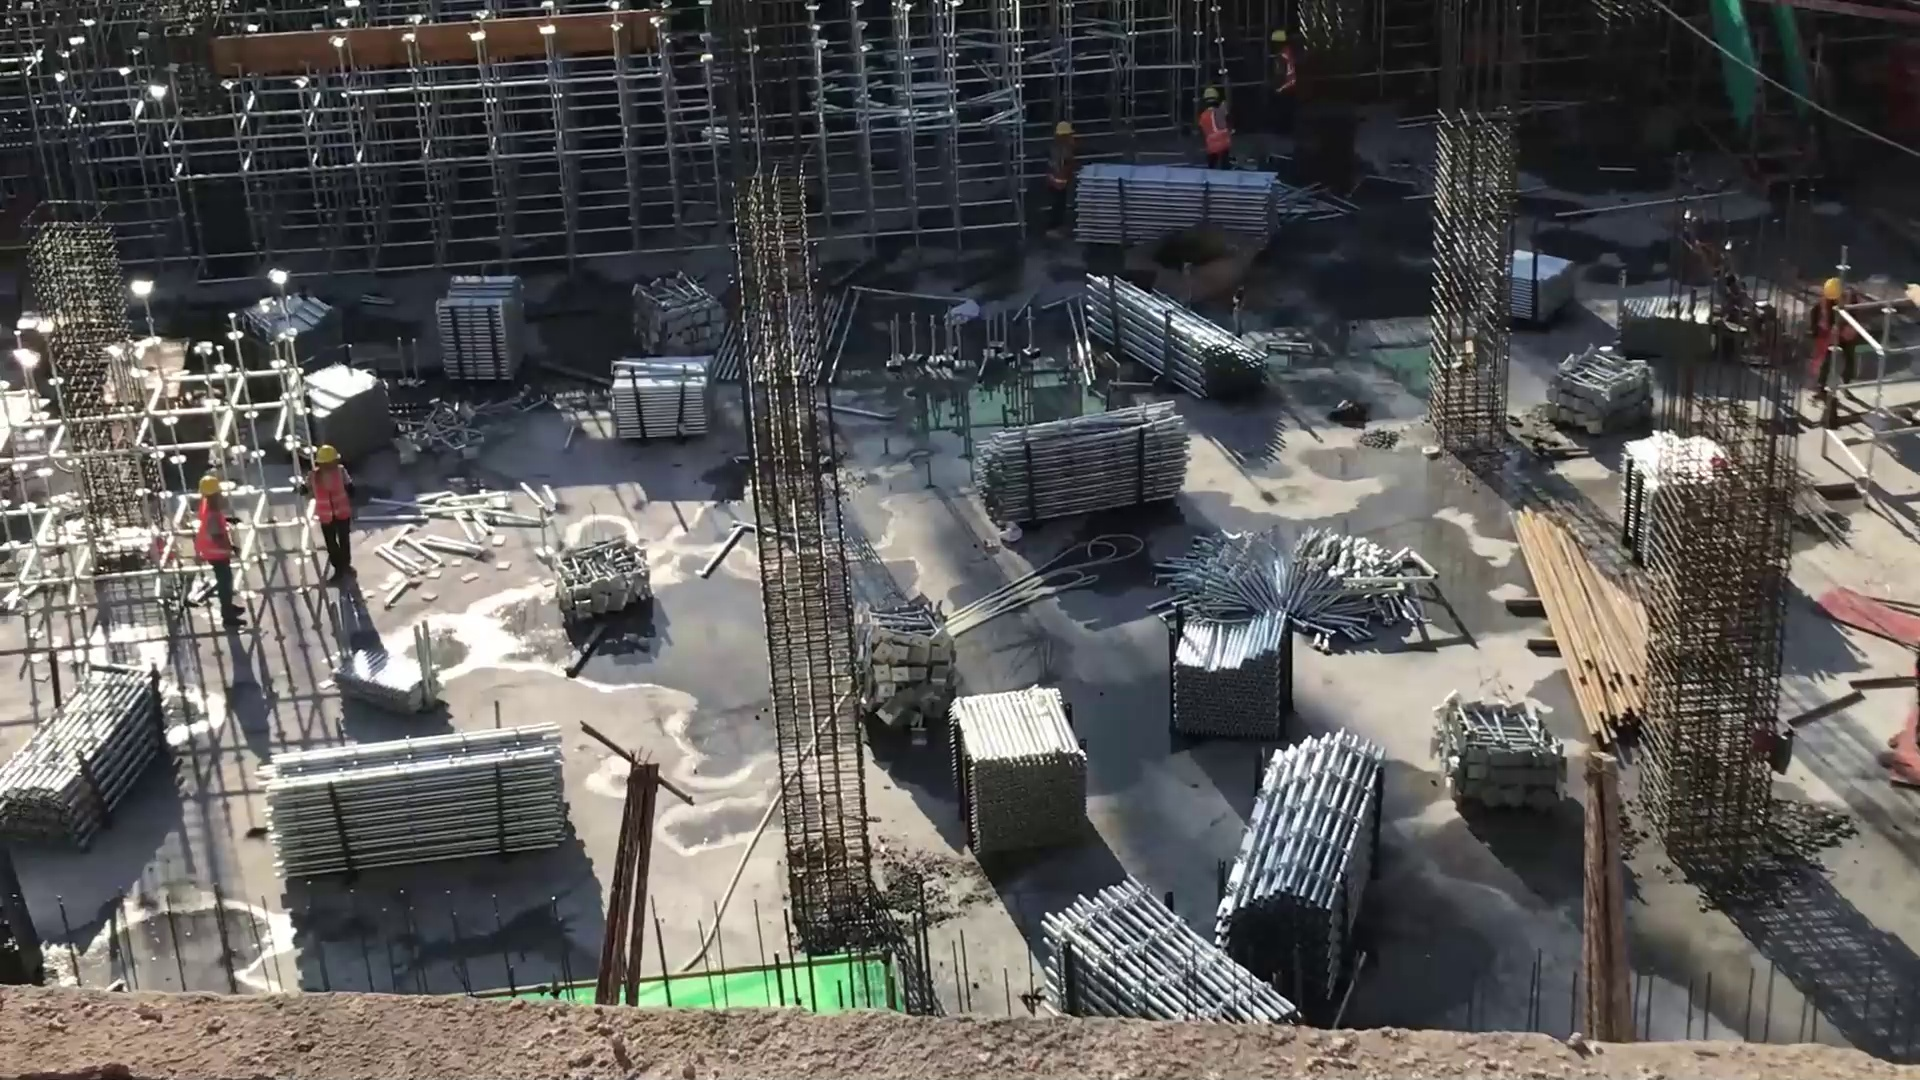helmet: (1818, 279, 1846, 299), (313, 447, 338, 461), (204, 479, 227, 492)
person: (298, 438, 362, 584), (181, 468, 240, 619), (1813, 274, 1858, 404), (1193, 87, 1242, 170), (1043, 120, 1075, 242), (1267, 26, 1301, 110)
scaffold: (252, 720, 578, 857), (1213, 741, 1369, 1006), (1042, 879, 1286, 1027), (1, 676, 169, 841), (988, 404, 1190, 515), (955, 693, 1093, 856), (1097, 273, 1269, 389), (1177, 589, 1298, 743), (1090, 160, 1279, 242), (611, 353, 712, 441), (244, 284, 350, 357), (444, 280, 517, 384), (640, 280, 727, 357)
vest: (307, 475, 351, 527), (198, 508, 232, 564)
wood: (1500, 507, 1656, 741)
